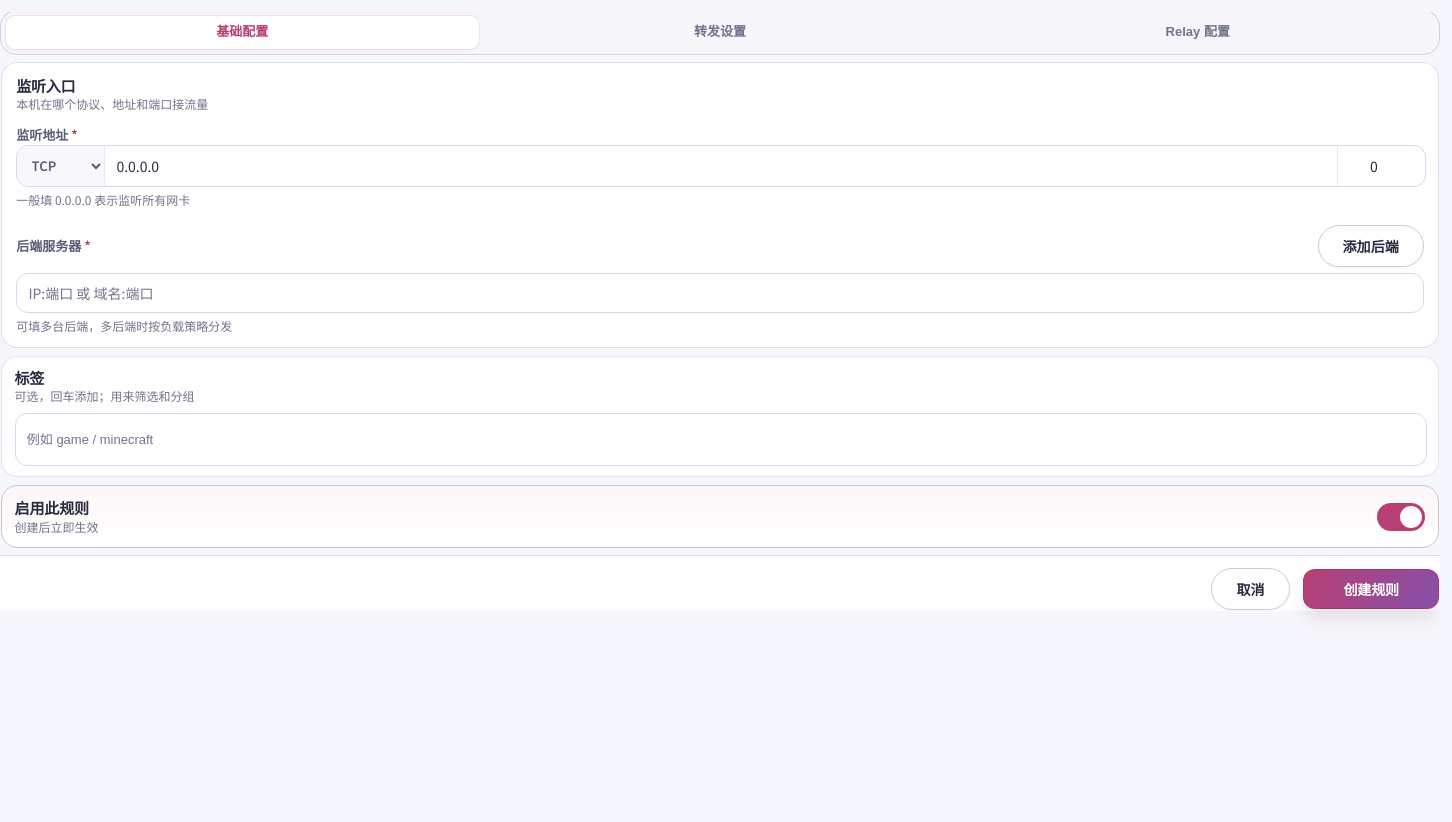
Test case: L4RuleForm egress profile and relay path › marks invalid backends per row with an associated field error
Replace the text in the number field with "25565" at (1381, 166), box x1=1337 y1=146 x2=1425 y2=186
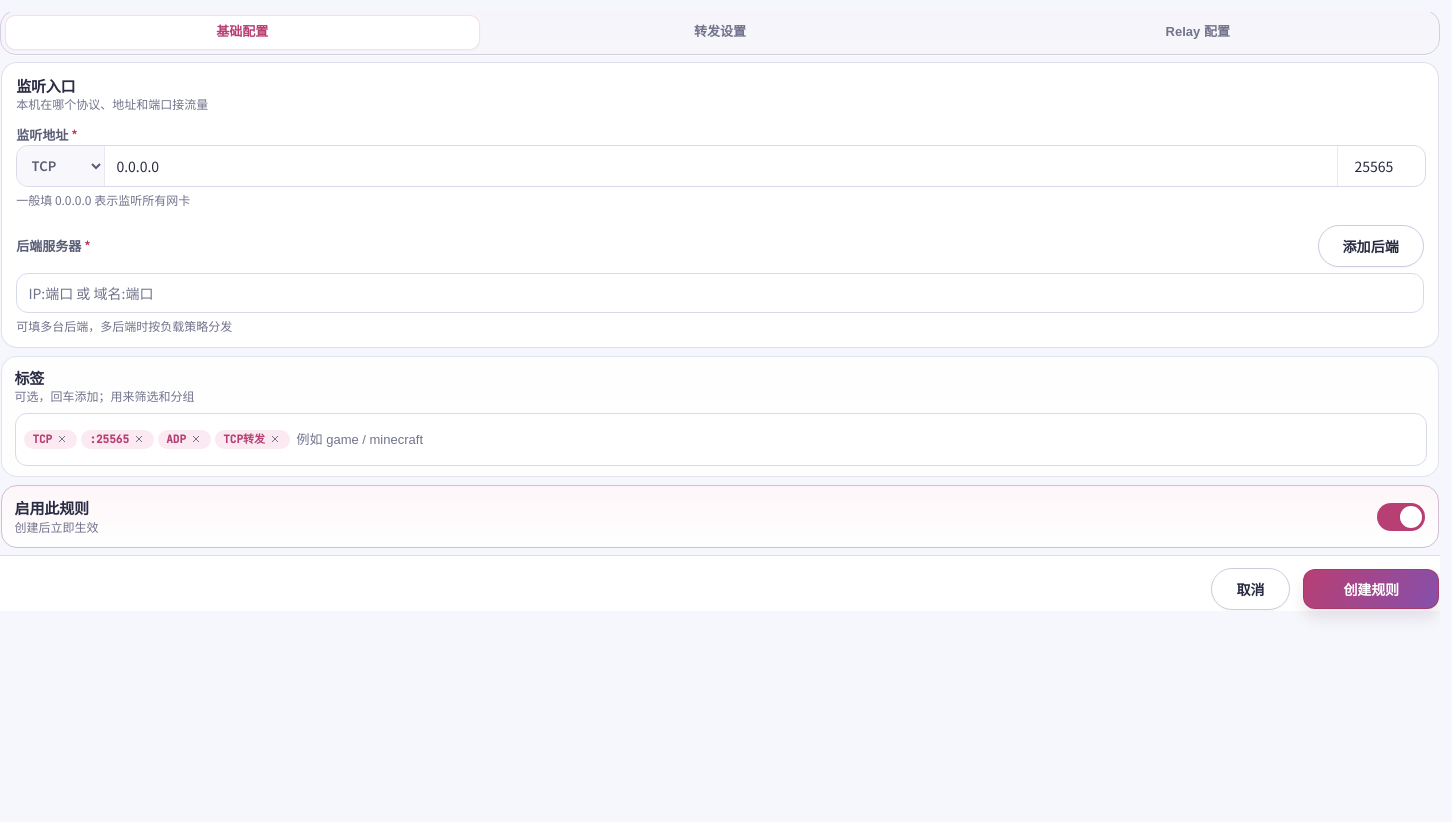
Submit the form
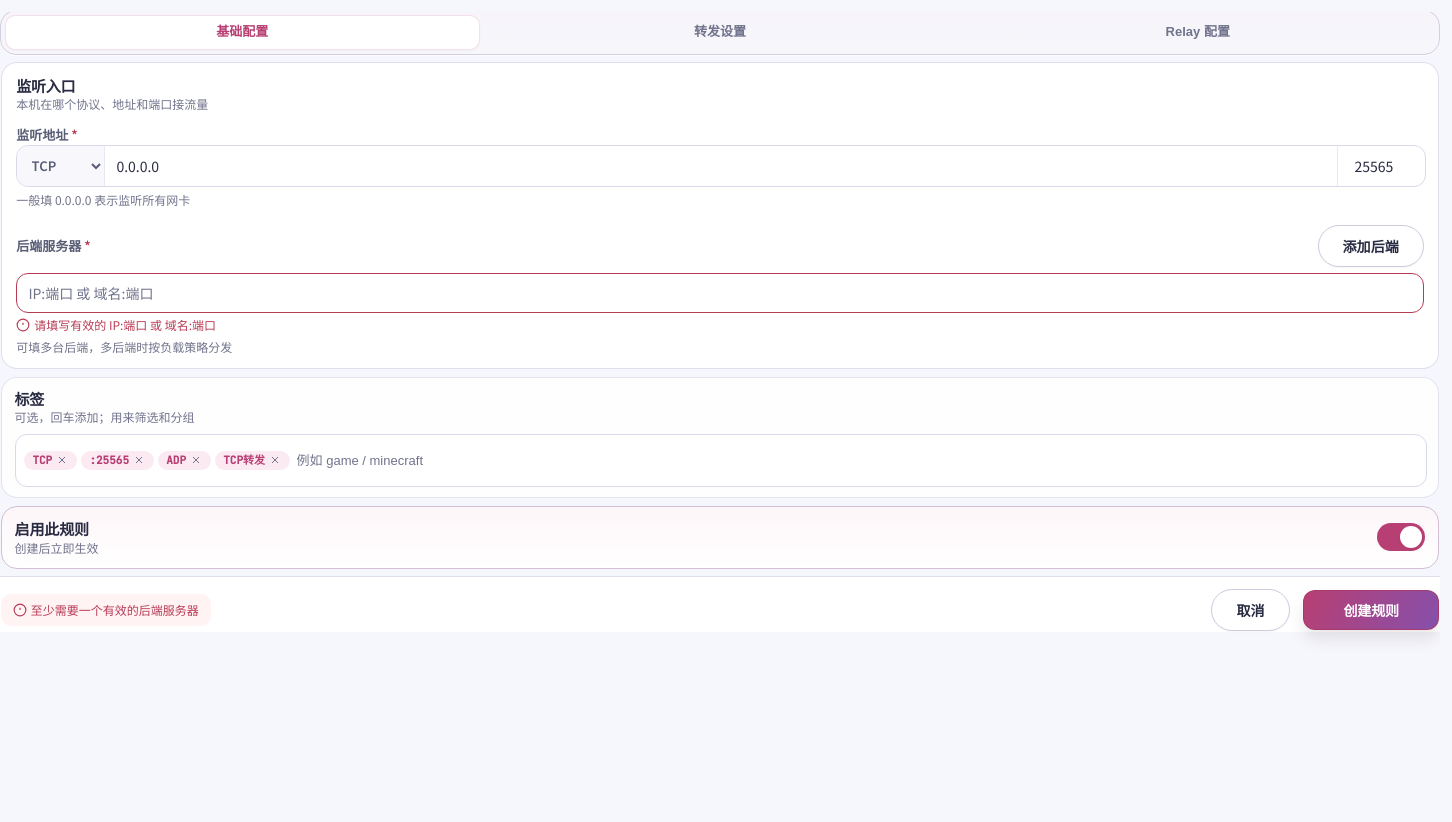
Expected: the message with id "l4-backend-0-error" shows "IP:端口", x1=34 y1=316 x2=216 y2=333
